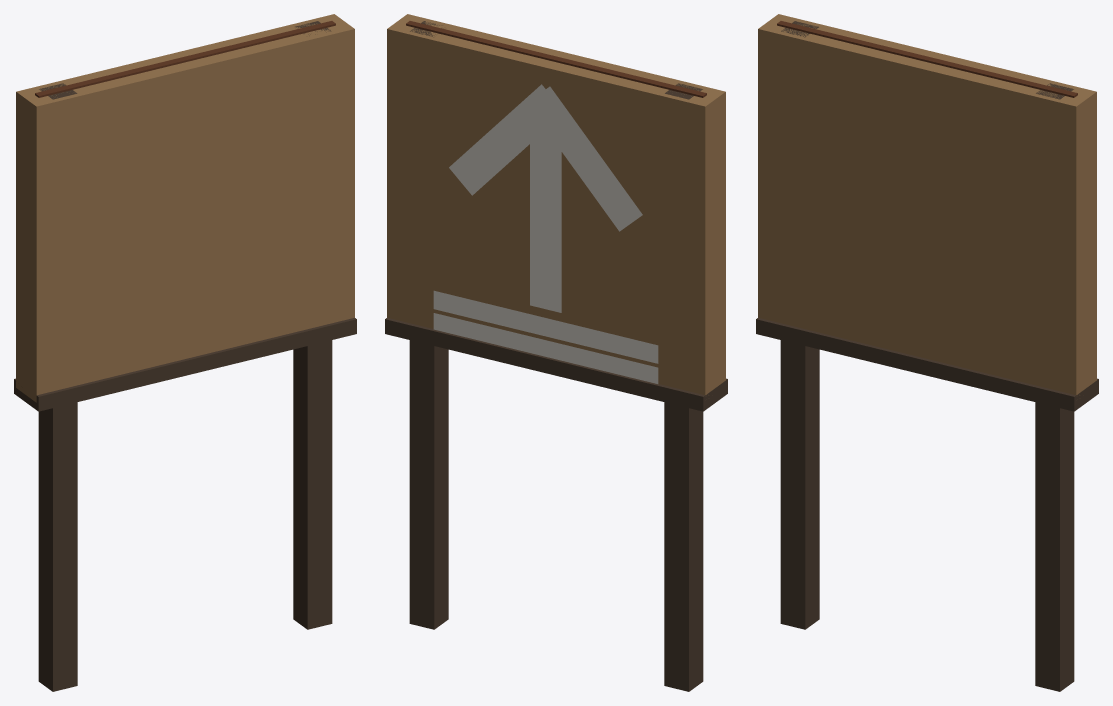
File: travel_sign.glb
The picture shows the model from 3 angles, left to right: view 1: azimuth 30°, elevation 25°; view 2: azimuth 150°, elevation 25°; view 3: azimuth 330°, elevation 25°; orthographic projection.
Visible parts, largest first — view 1: travel_sign; view 2: travel_sign; view 3: travel_sign.
Boxes of the visible parts, x1,y1,x2,y2 form: travel_sign: [14, 14, 356, 691]; travel_sign: [385, 14, 727, 691]; travel_sign: [756, 14, 1098, 691].
Size of what is drawn, in the model's own units: 0.9 by 1.61 by 0.12.
Materials: 2 (2 with a texture image).
